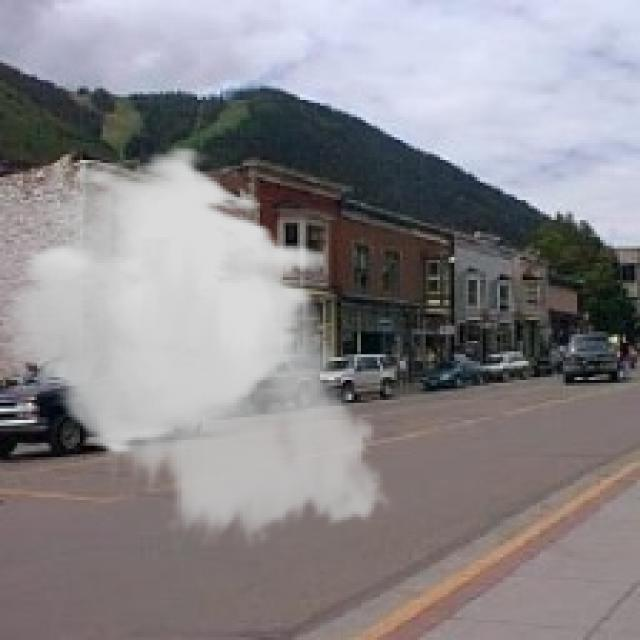Smoke: (3, 146, 400, 548)
